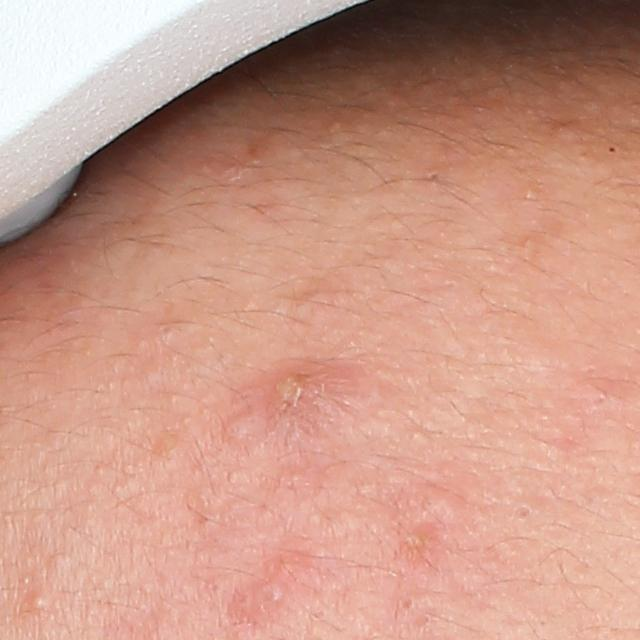comedo: (415, 483, 463, 526), (223, 414, 250, 442), (27, 595, 47, 611)
